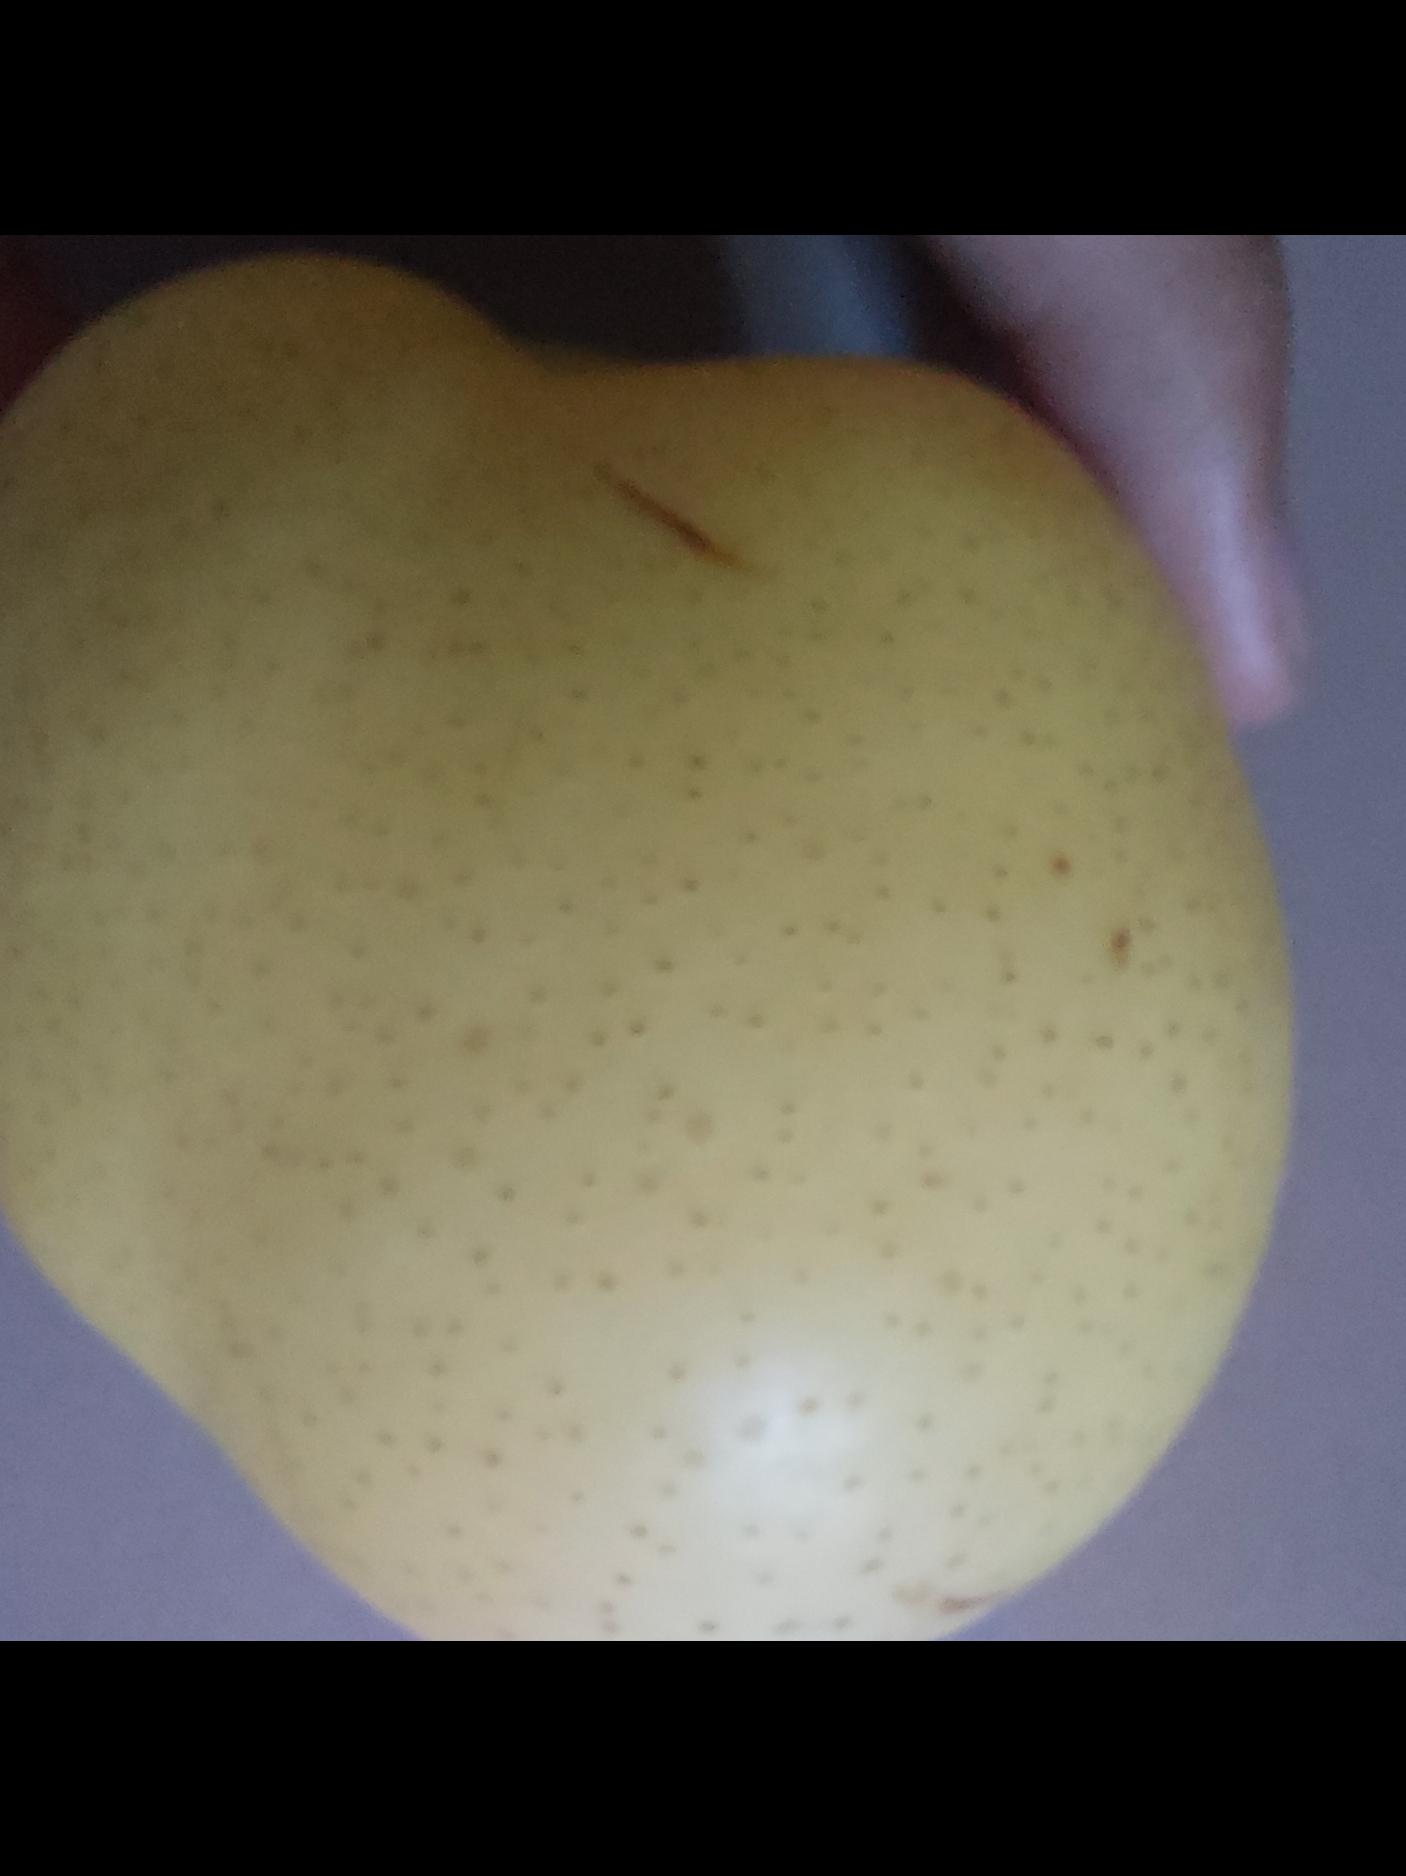Good Pear: (0, 236, 1303, 1641)
